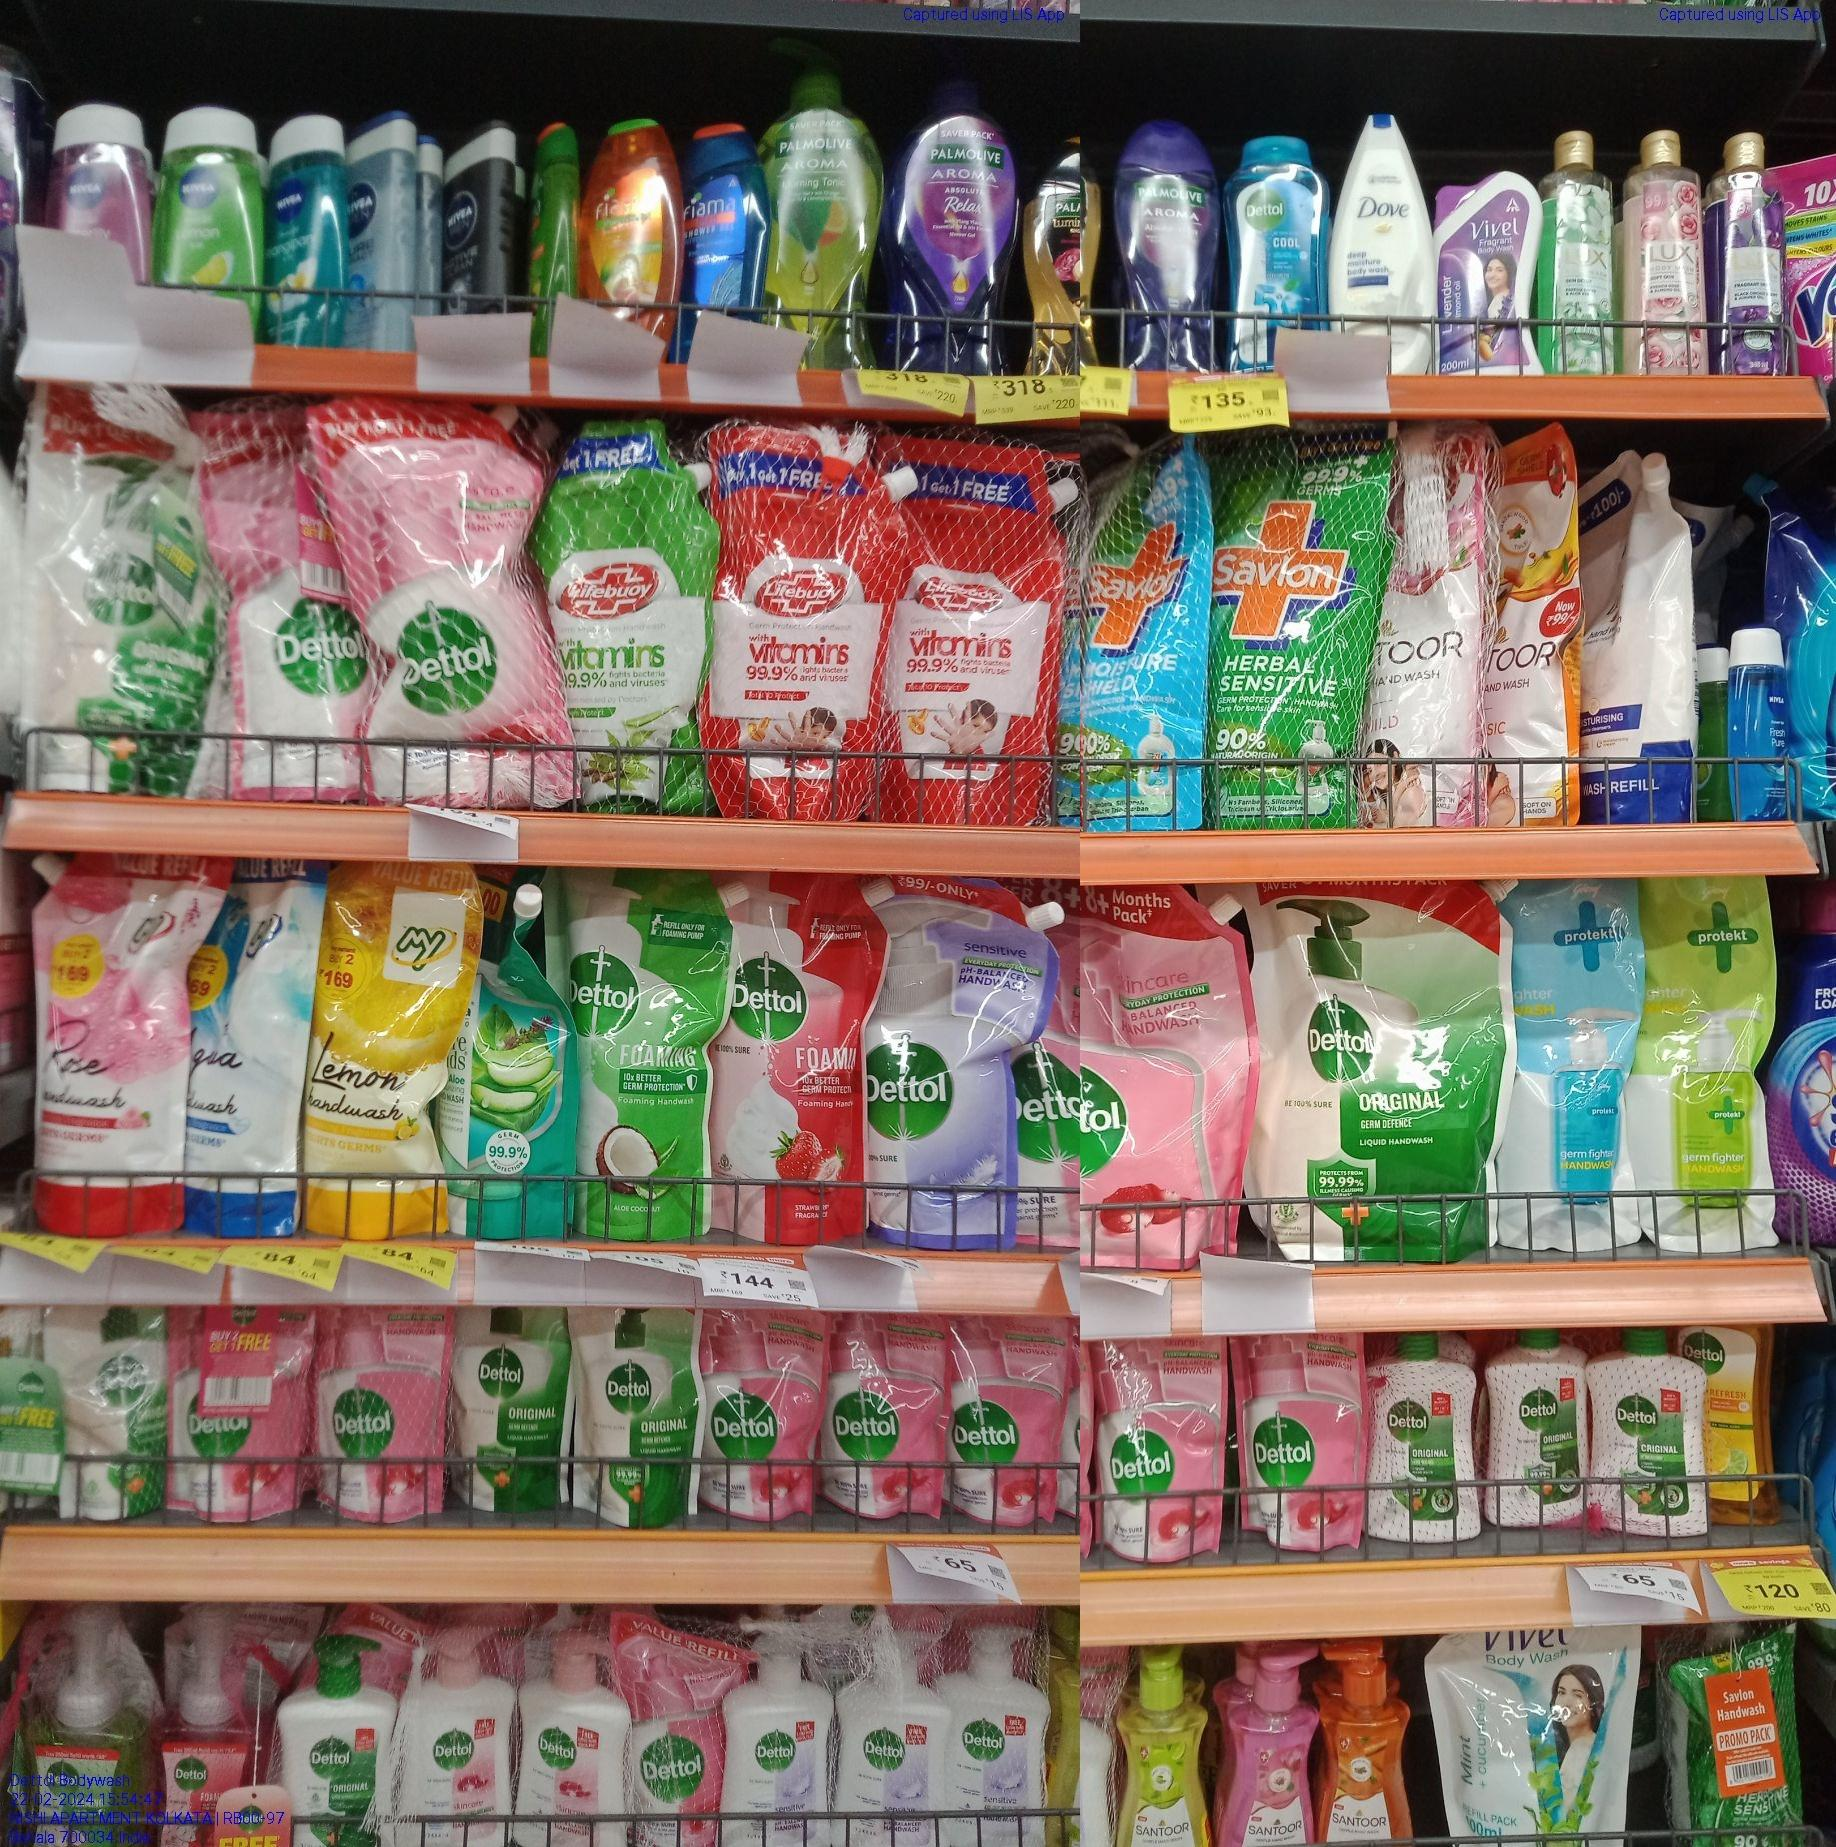Dettol_Bodywash_Cool: (1227, 128, 1330, 324)
Dove_Deep_Moisture_Body_Wash_250ML: (1332, 113, 1432, 304)
Fiama_Shower_Gel_Peach_and_Avocado_250ML: (582, 111, 686, 308)
Lux_Black_Orchid_Scent_and_Juniper_Oil_Body_Wash_245ML: (1708, 126, 1794, 378)
Lux_Body_Wash_Skin_Detox_Freesia_Scent_and_Alove_Vera_245ML: (1545, 126, 1621, 385)
Nivea_Shower_Gel_Frangipani_and_Oil_250ML: (261, 111, 356, 351)
Nivea_Shower_Gel_Lemon_and_Oil_250ML: (156, 106, 262, 281)
Palmolive_Aroma_Relax_250ML: (1123, 121, 1221, 373)
